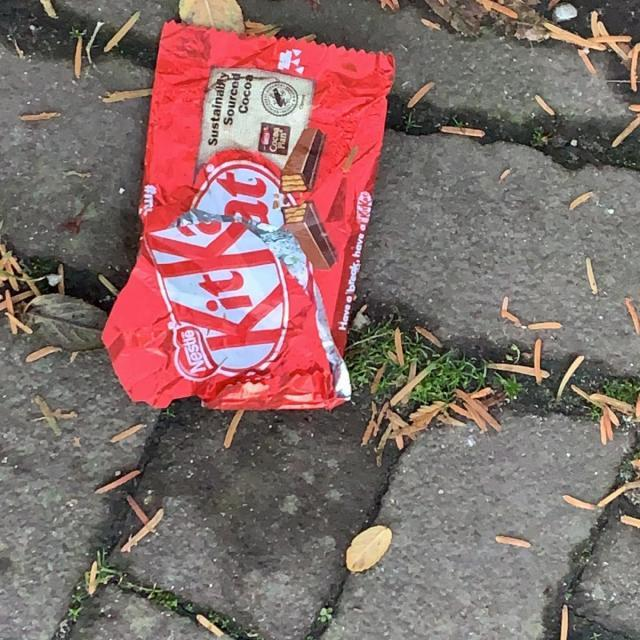Plastic: (97, 14, 400, 419)
